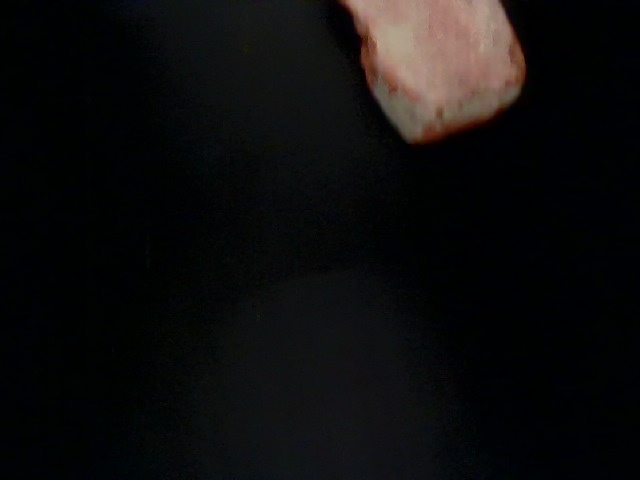KHSLJ: (52, 1, 393, 307)
